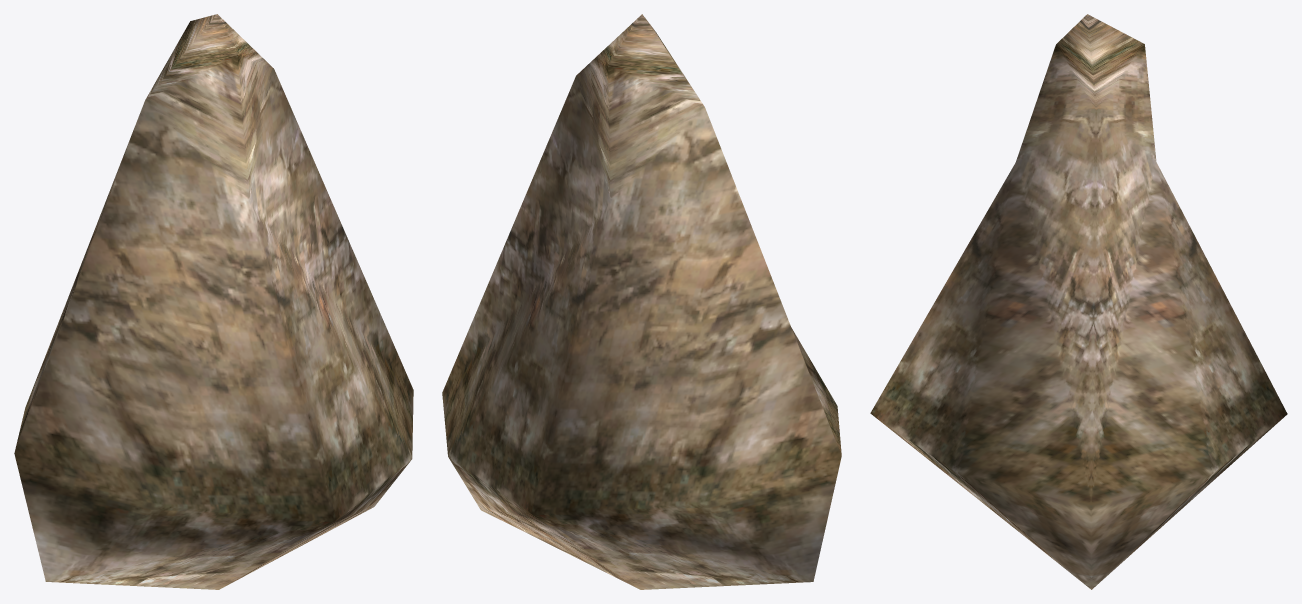
Rendered from thm_all_cave_stalagmite_b3_l2.fbx.
The picture shows the model from 3 angles, left to right: view 1: azimuth 30°, elevation 25°; view 2: azimuth 150°, elevation 25°; view 3: azimuth 270°, elevation 25°; orthographic projection. The views are drawn at different scales.
Parts seen in each view (by area): view 1: mesh_node; view 2: mesh_node; view 3: mesh_node.
Boxes of the visible parts, bbox=[...] form: mesh_node: bbox=[14, 14, 413, 589]; mesh_node: bbox=[442, 14, 841, 589]; mesh_node: bbox=[870, 14, 1287, 589].
Size of the model in its own units: 2.57 by 3.55 by 2.47.
